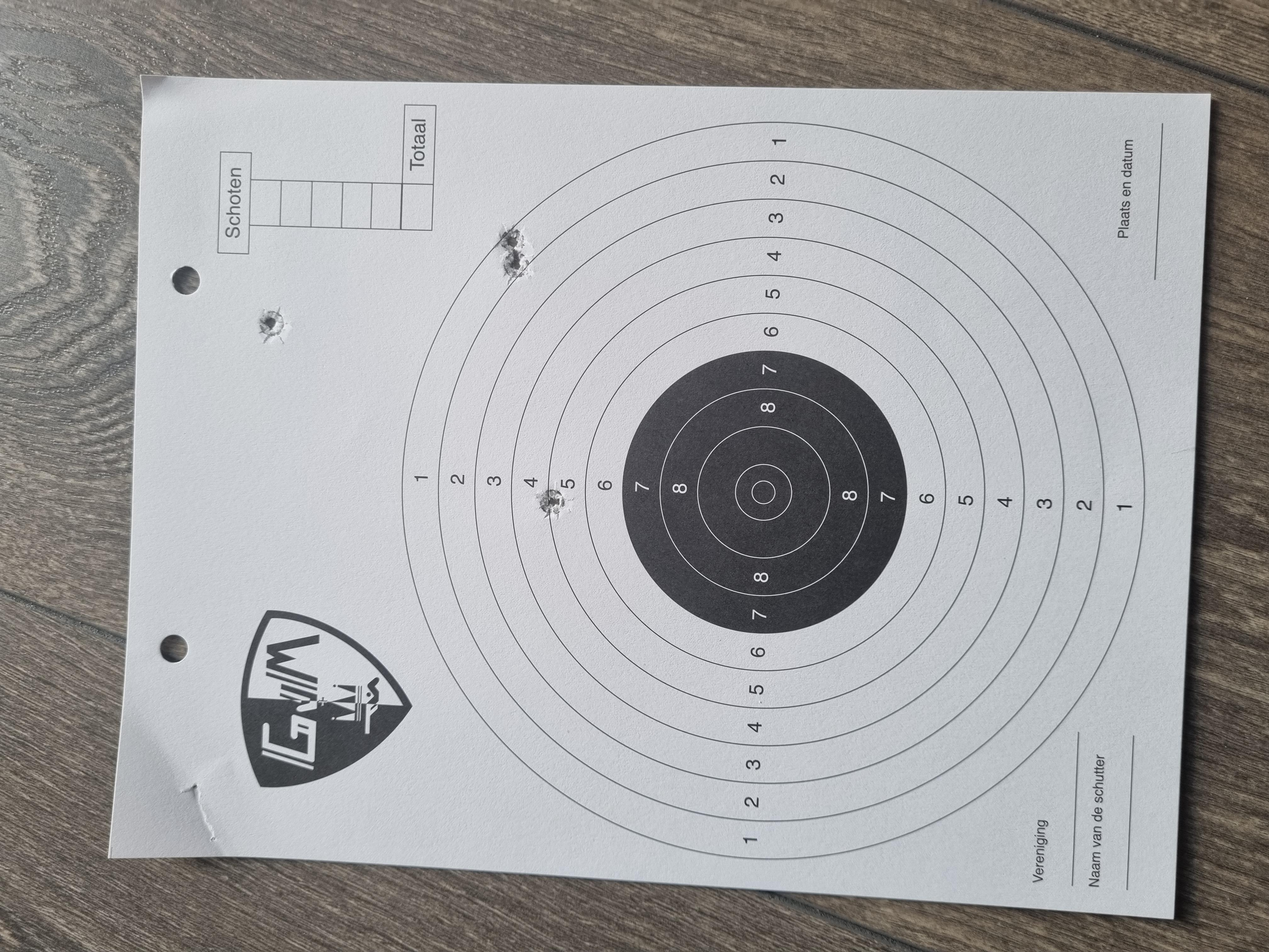hole: (808, 192, 860, 215), (931, 374, 971, 396), (578, 402, 618, 424), (889, 377, 934, 396)
